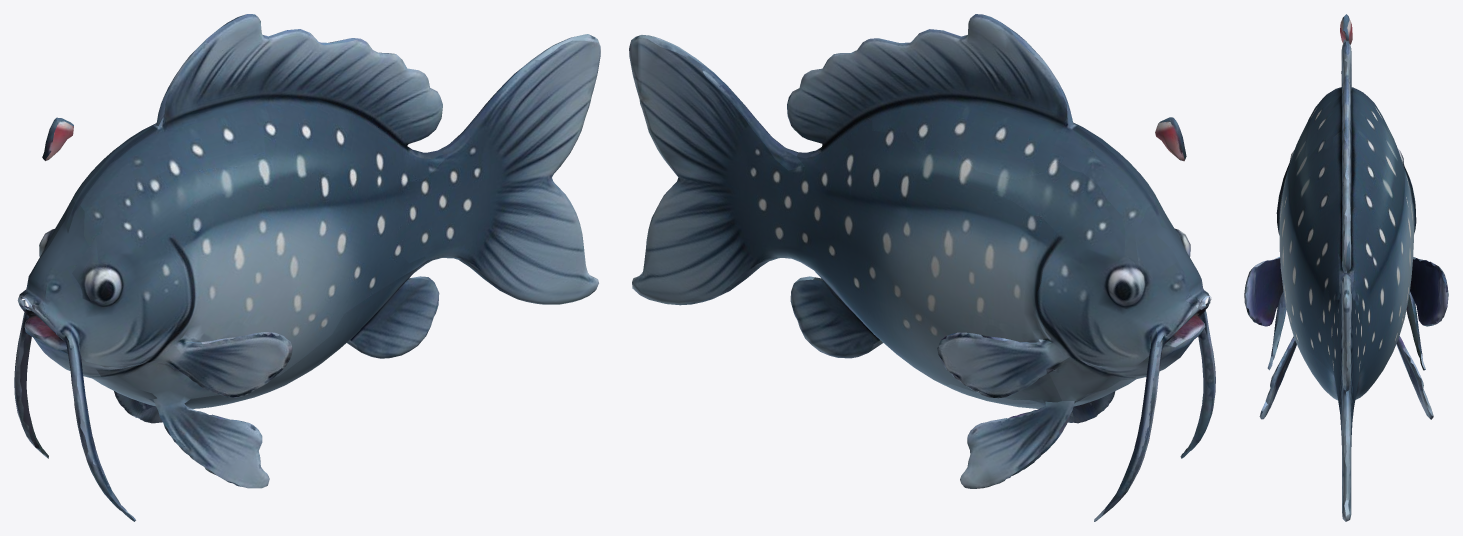
File: fish_rainbarb.glb
3 views of the same model, side by side, from view 1: azimuth 30°, elevation 25°; view 2: azimuth 150°, elevation 25°; view 3: azimuth 270°, elevation 25° (orthographic). The views are drawn at different scales.
Parts seen in each view (by area): view 1: fish_rainbarb; view 2: fish_rainbarb; view 3: fish_rainbarb.
Part boxes in pixels (box(x1,y1,x2,y2)): fish_rainbarb: box(14, 14, 600, 521); fish_rainbarb: box(629, 14, 1215, 521); fish_rainbarb: box(1244, 14, 1448, 521).
Bounding box in the file's own units: 1 × 0.7254 × 0.3425.
Materials: 1 (1 with a texture image).
